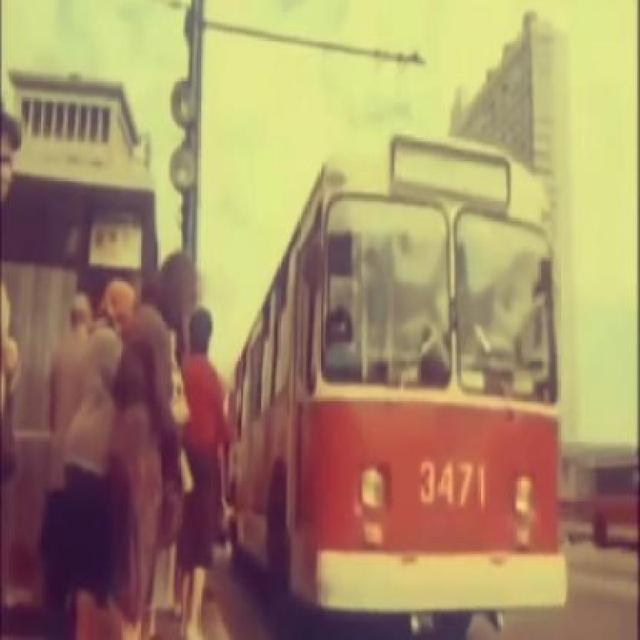bus: (229, 136, 562, 635)
